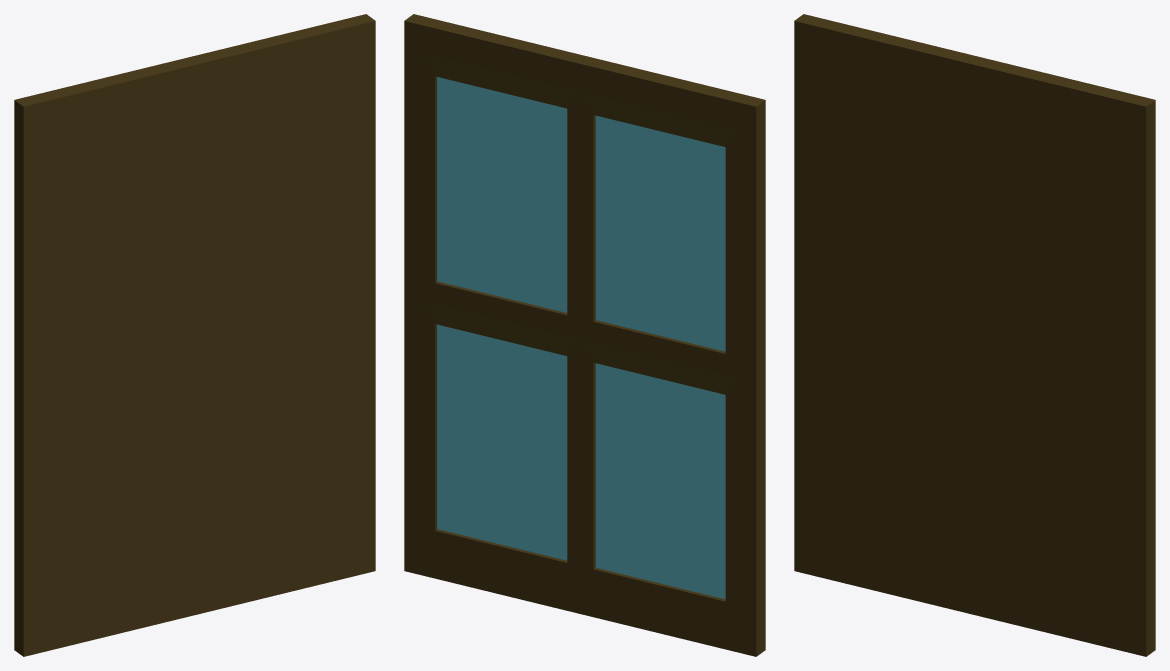
File: Window_Material.fbx
3 renders of one model, left to right at view 1: azimuth 30°, elevation 25°; view 2: azimuth 150°, elevation 25°; view 3: azimuth 330°, elevation 25°, orthographic.
Visible parts, largest first — view 1: Window; view 2: Window; view 3: Window.
Part boxes in pixels (left/top/right/bottom): Window: left=14, top=14, right=375, bottom=656; Window: left=404, top=14, right=765, bottom=656; Window: left=794, top=14, right=1155, bottom=656.
Size of the model in its own units: 0.4854 by 0.7248 by 0.0226.
